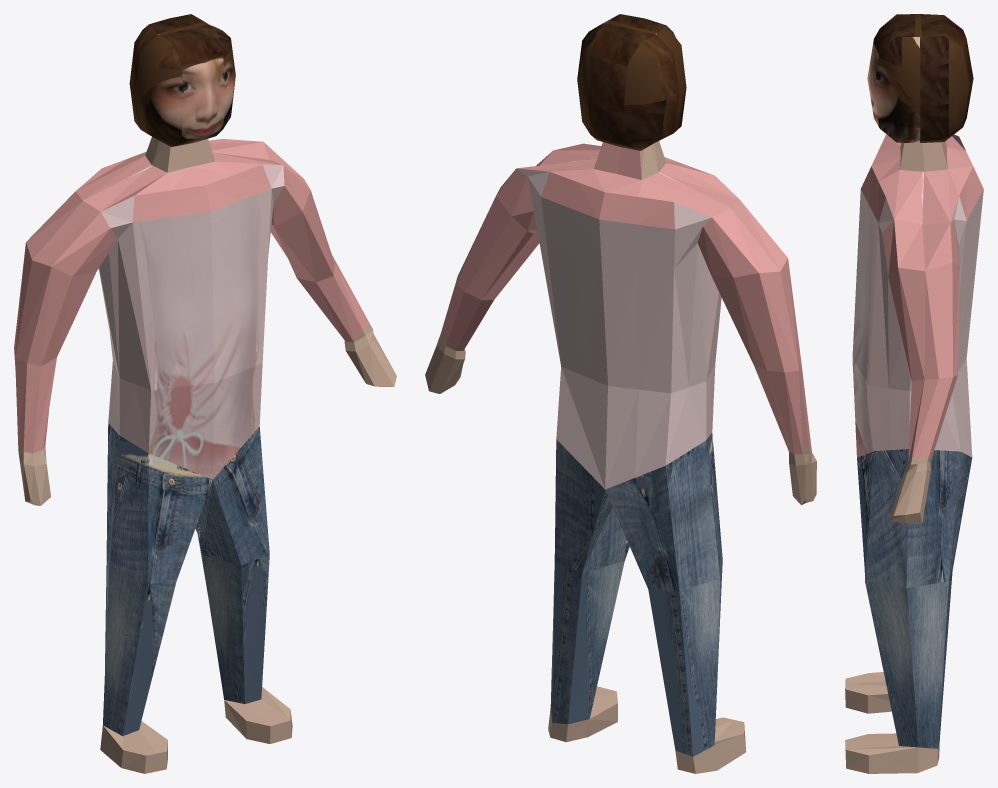
File: PlayerLinh.fbx
The picture shows the model from 3 angles, left to right: view 1: azimuth 30°, elevation 25°; view 2: azimuth 150°, elevation 25°; view 3: azimuth 270°, elevation 25°; orthographic projection. The views are drawn at different scales.
Visible parts, largest first — view 1: pCube1, pCube2; view 2: pCube1, pCube2; view 3: pCube1, pCube2.
Boxes of the visible parts, x1,y1,x2,y2 form: pCube1: (14,137,396,773); pCube2: (129,14,235,146); pCube1: (425,141,816,773); pCube2: (577,14,686,150); pCube1: (845,134,983,773); pCube2: (867,14,973,142).
Size of the model in its own units: 4.2 by 7.56 by 1.34.
